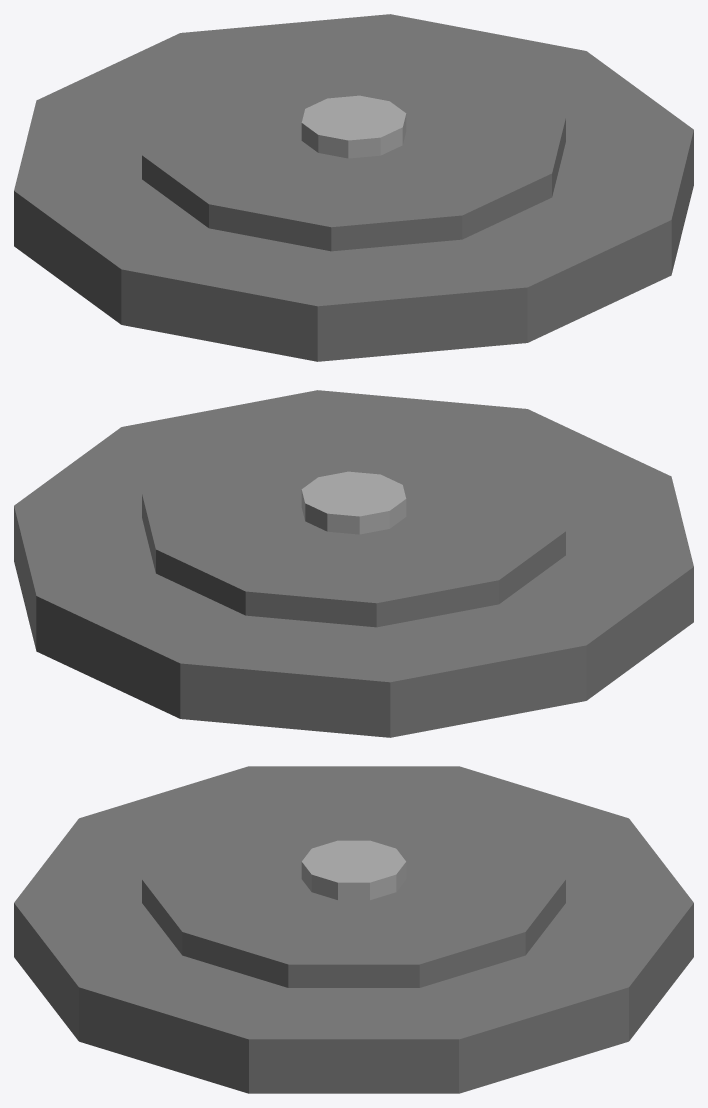
The model's file is LandMine.fbx.
The picture shows the model from 3 angles, top to bottom: view 1: azimuth 30°, elevation 25°; view 2: azimuth 150°, elevation 25°; view 3: azimuth 270°, elevation 25°; orthographic projection. The views are drawn at different scales.
Parts seen in each view (by area): view 1: Cylinder, Cylinder.001; view 2: Cylinder, Cylinder.001; view 3: Cylinder, Cylinder.001.
Boxes of the visible parts, box(x1,y1,x2,y2) form: Cylinder: box(14, 14, 693, 361); Cylinder.001: box(301, 95, 406, 158); Cylinder: box(14, 390, 693, 737); Cylinder.001: box(301, 471, 406, 534); Cylinder: box(14, 766, 693, 1093); Cylinder.001: box(301, 840, 406, 900).
Bounding box in the file's own units: 190 × 31.02 × 200.
